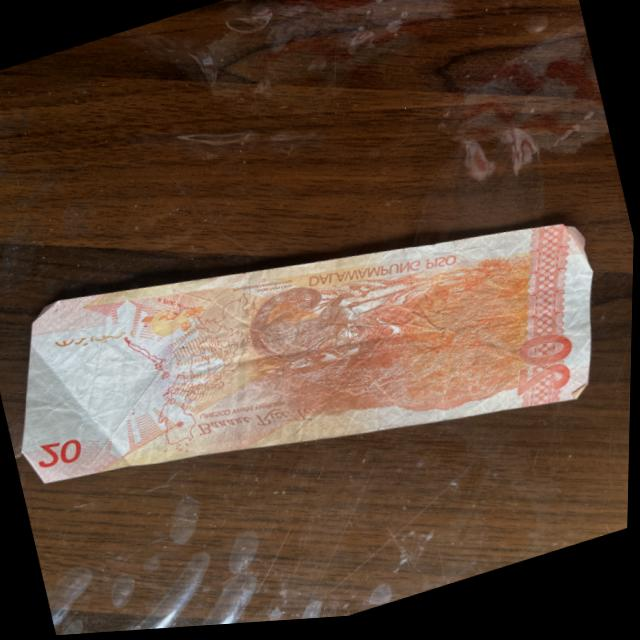20_civet: (242, 271, 381, 385)
20_civet_watermark: (148, 297, 214, 351)
